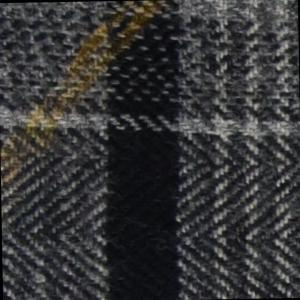Oil Stain: (1, 1, 174, 204)
